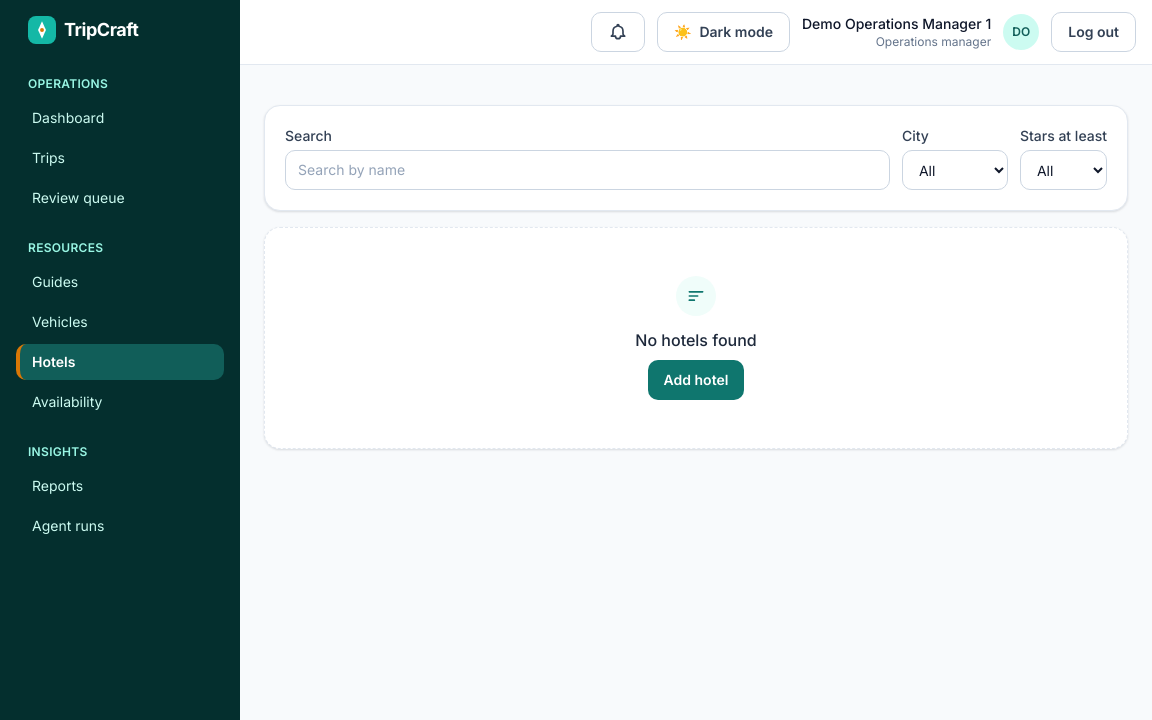
Test: Hotel form with room types › creates a hotel with its room types in one body
Click the button "Add hotel". click: {"x": 696, "y": 380}
box: [648,360,744,400]
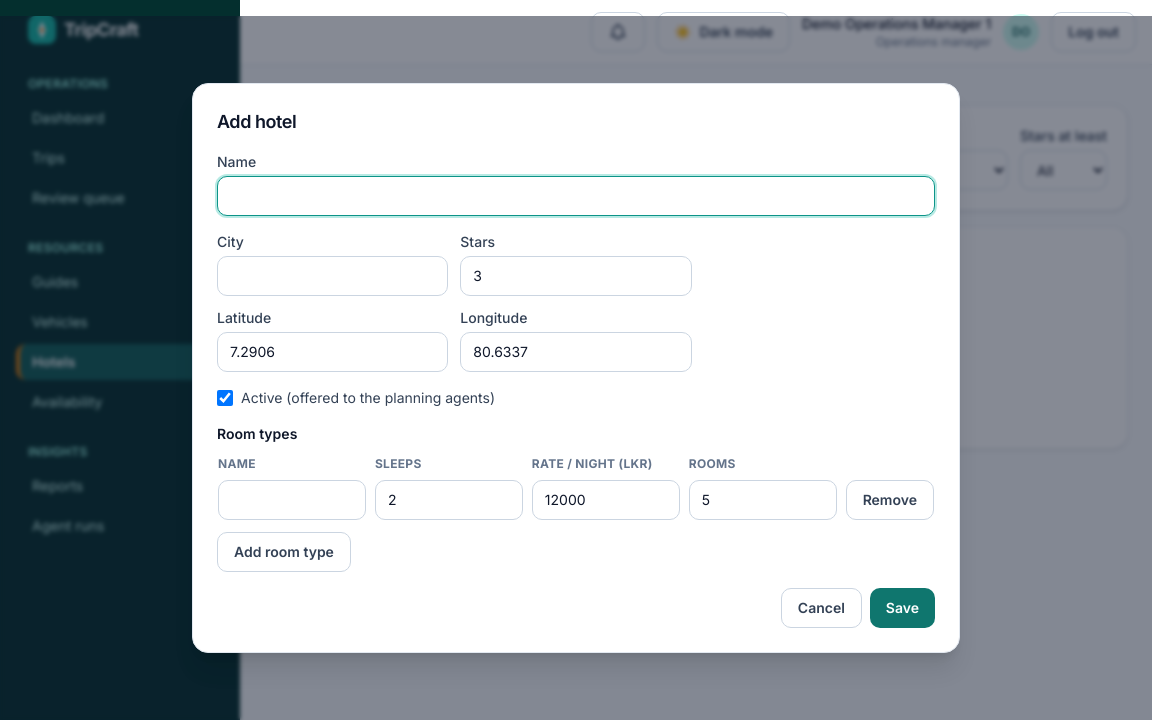
Type "Ella Rock View" into the field labelled "Name". click: {"x": 576, "y": 196}
box: [217,176,935,216]
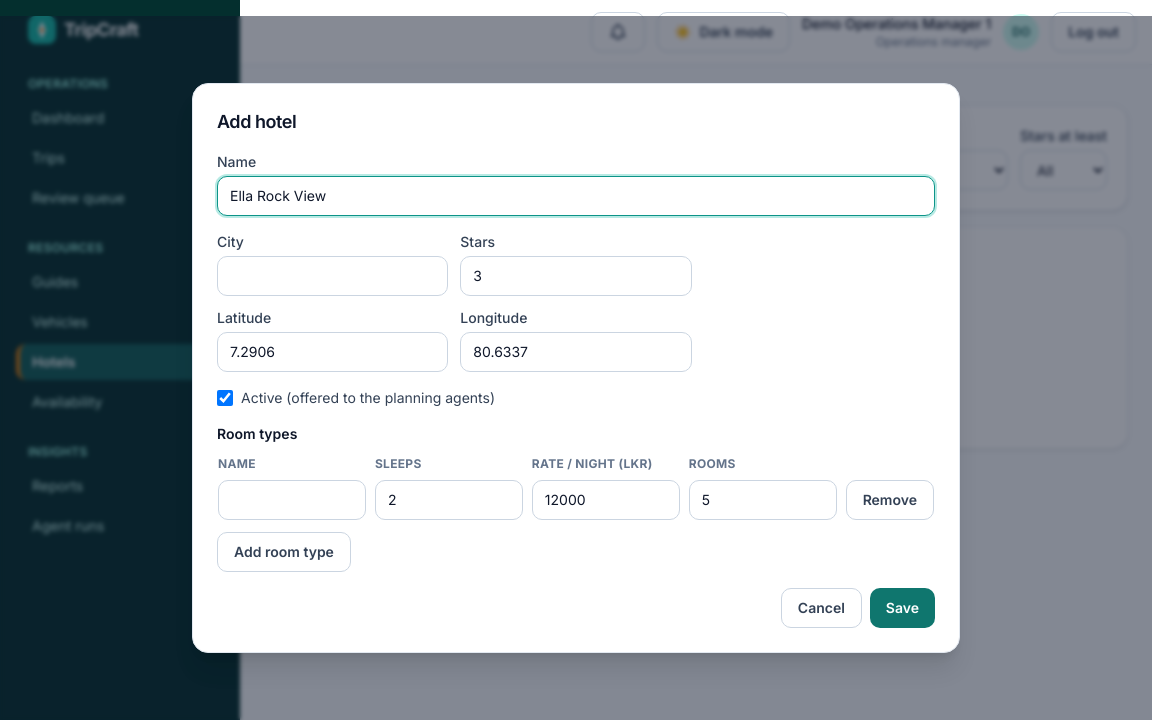
Type "Ella" into the field labelled "City". click: {"x": 333, "y": 276}
box: [217,256,448,296]
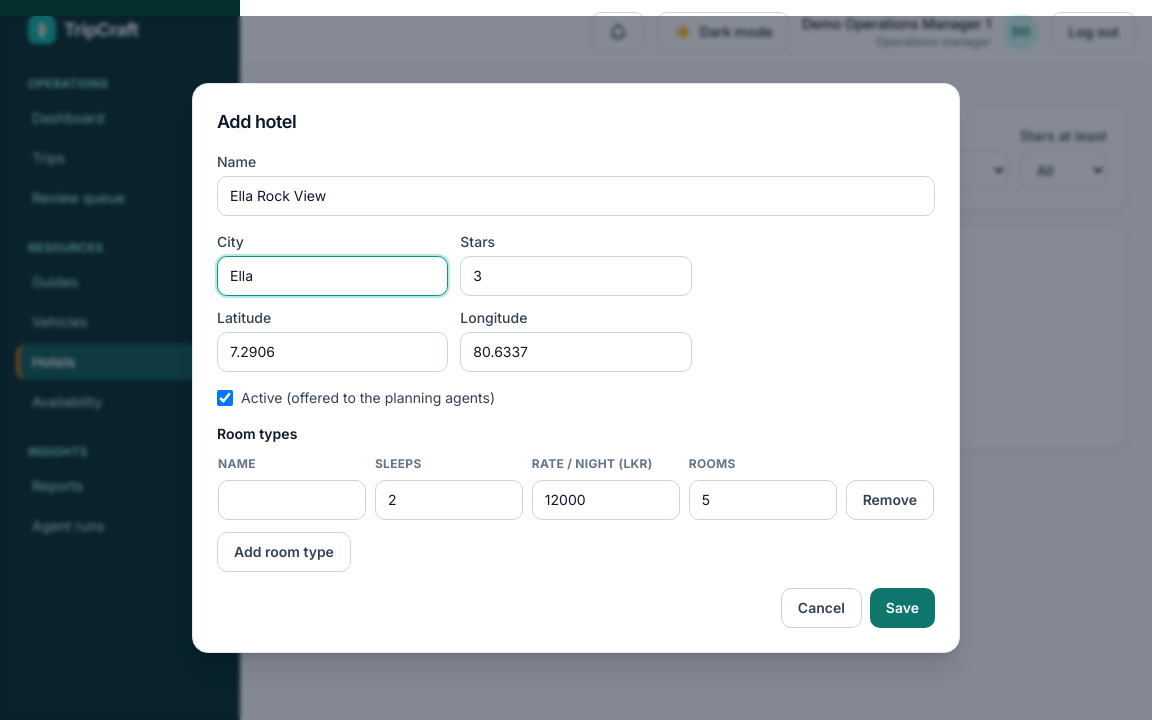
Type "Deluxe Double" into the field named "Room type 1 name". click: {"x": 292, "y": 500}
box: [218,480,366,520]
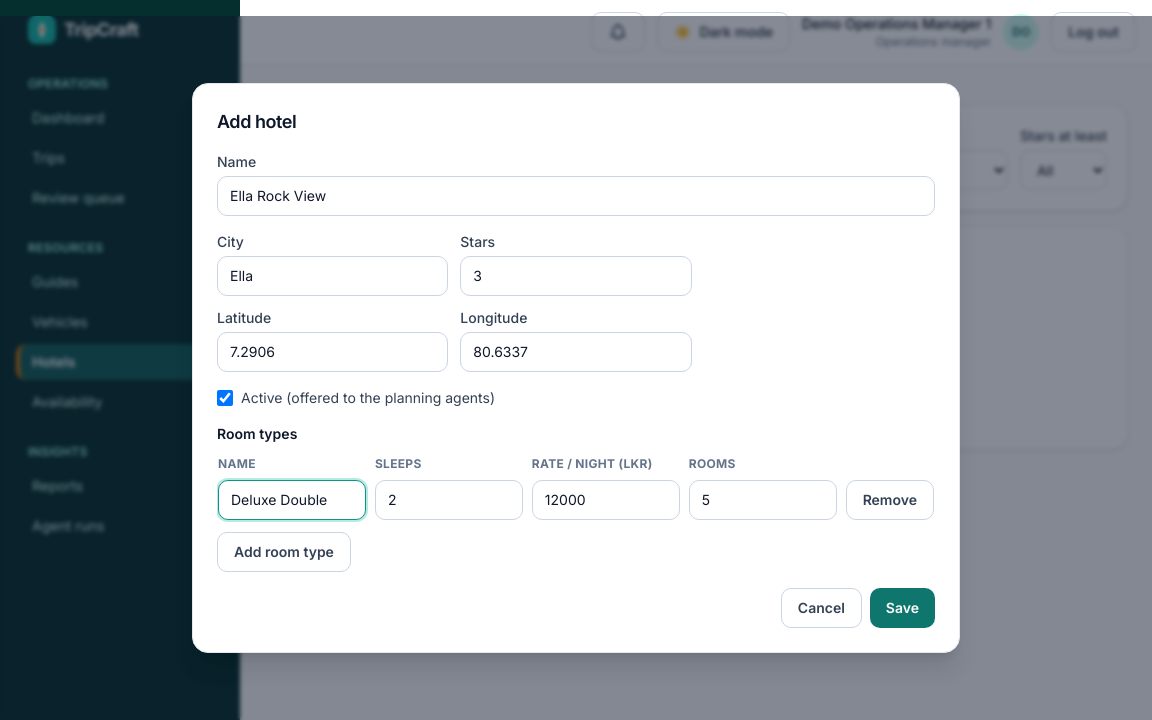
Click the button "Save". click: {"x": 902, "y": 608}
box: [870,588,935,628]
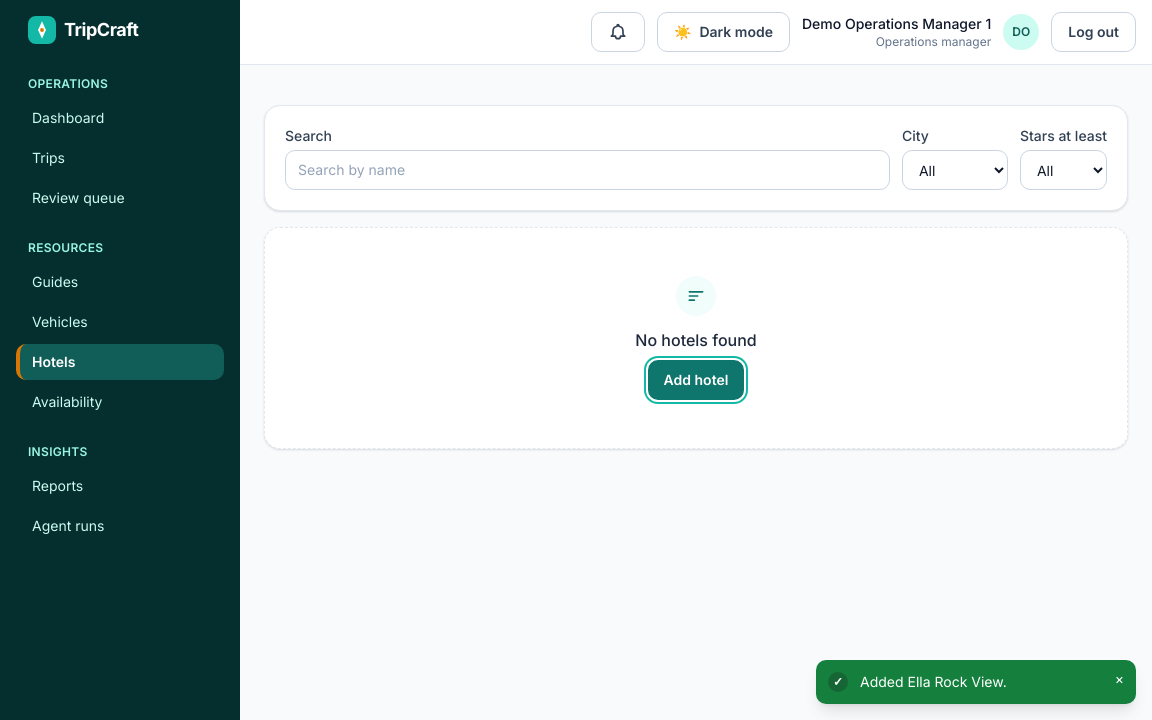
Result: the text "Added Ella Rock View." is shown at [860,673,1007,690]
